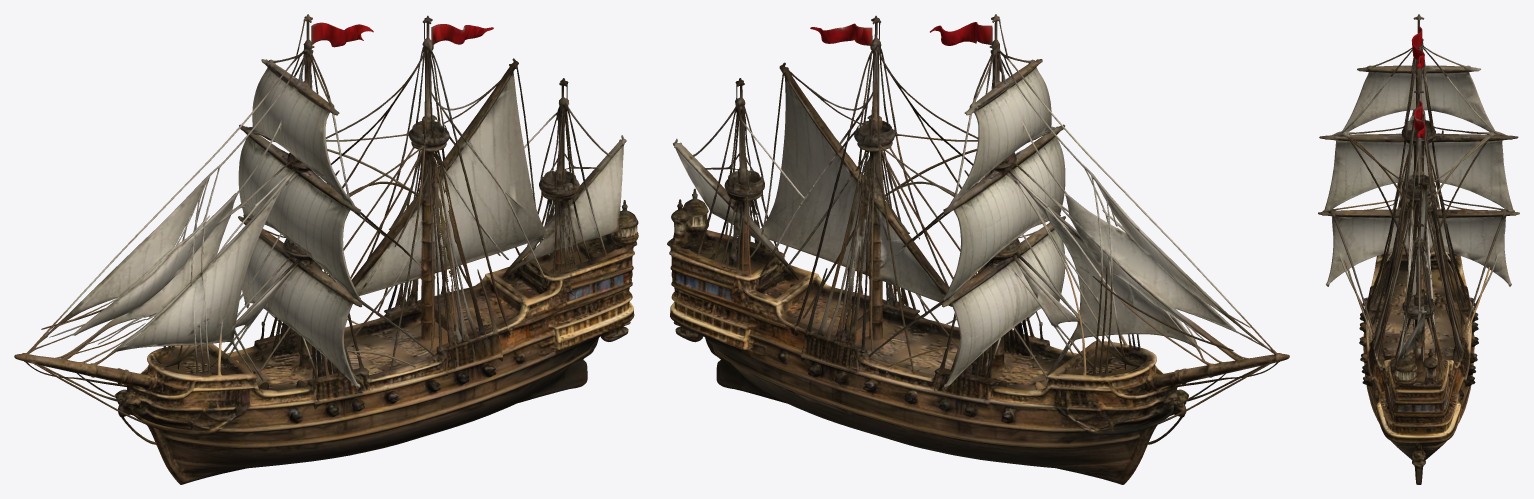
File: schooner.glb
The picture shows the model from 3 angles, left to right: view 1: azimuth 30°, elevation 25°; view 2: azimuth 150°, elevation 25°; view 3: azimuth 270°, elevation 25°; orthographic projection. The views are drawn at different scales.
Parts seen in each view (by area): view 1: node_0; view 2: node_0; view 3: node_0.
Part boxes in pixels (x1,y1,x2,y2): node_0: (14, 14, 638, 484); node_0: (667, 14, 1289, 484); node_0: (1318, 14, 1519, 484).
Size of the model in its own units: 1.05 by 0.7209 by 0.3638.
1 material, 1 textured.
